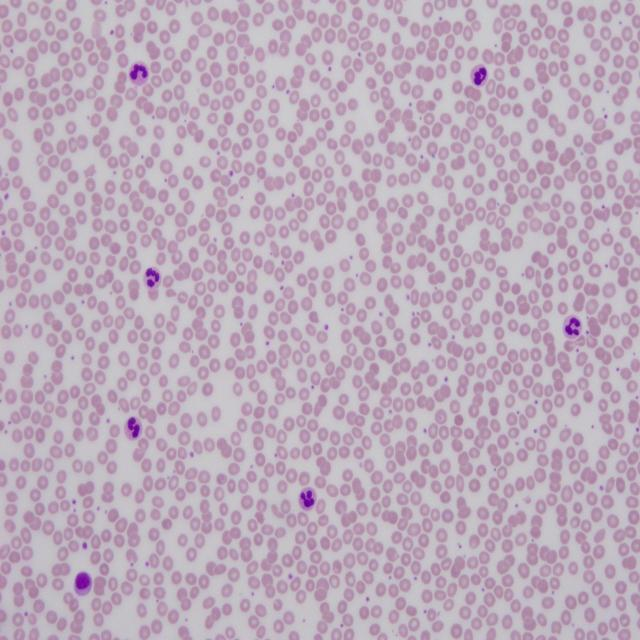cell: (129, 62, 149, 86), (562, 316, 582, 339), (470, 64, 488, 86), (125, 416, 141, 440), (299, 488, 316, 510), (144, 268, 160, 290)
